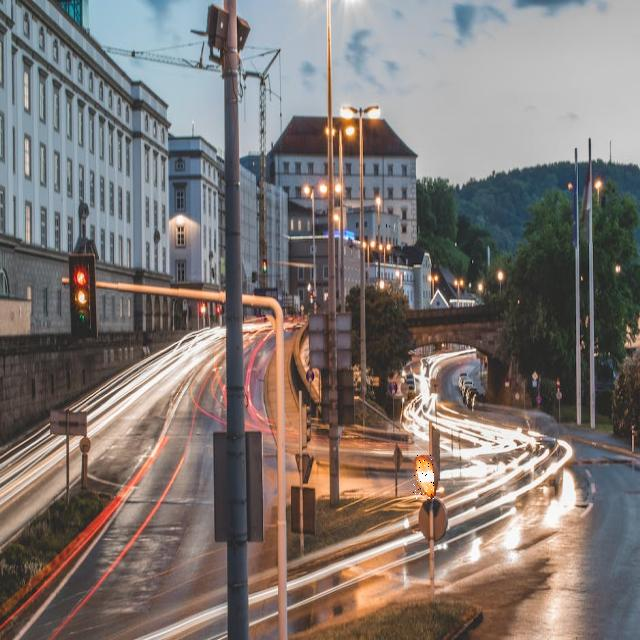no entry: (413, 455, 434, 499)
